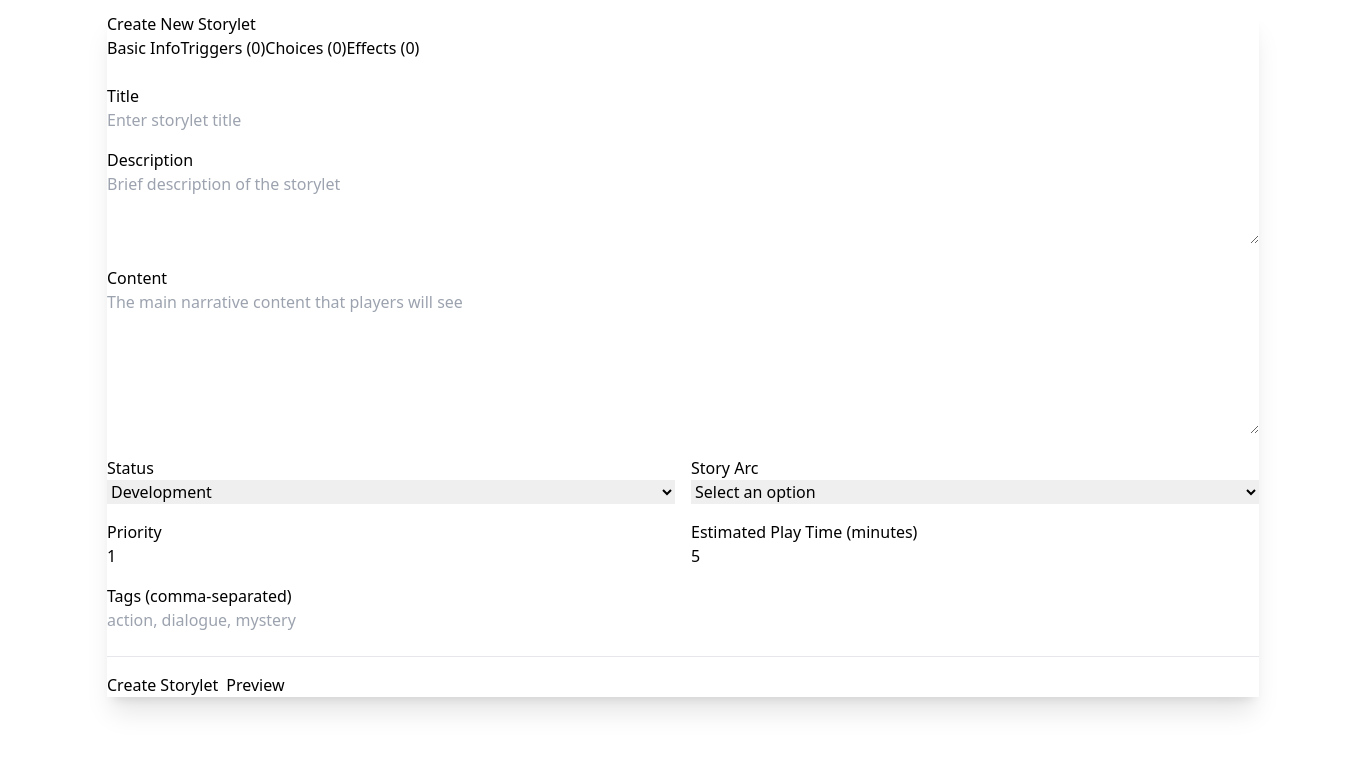
Test: AdvancedStoryletCreator › shows preview modal when preview button is clicked
// Fill some basic data
Type "Preview Test" into the field labelled "Title" at (683, 120), box [107,108,1259,132]
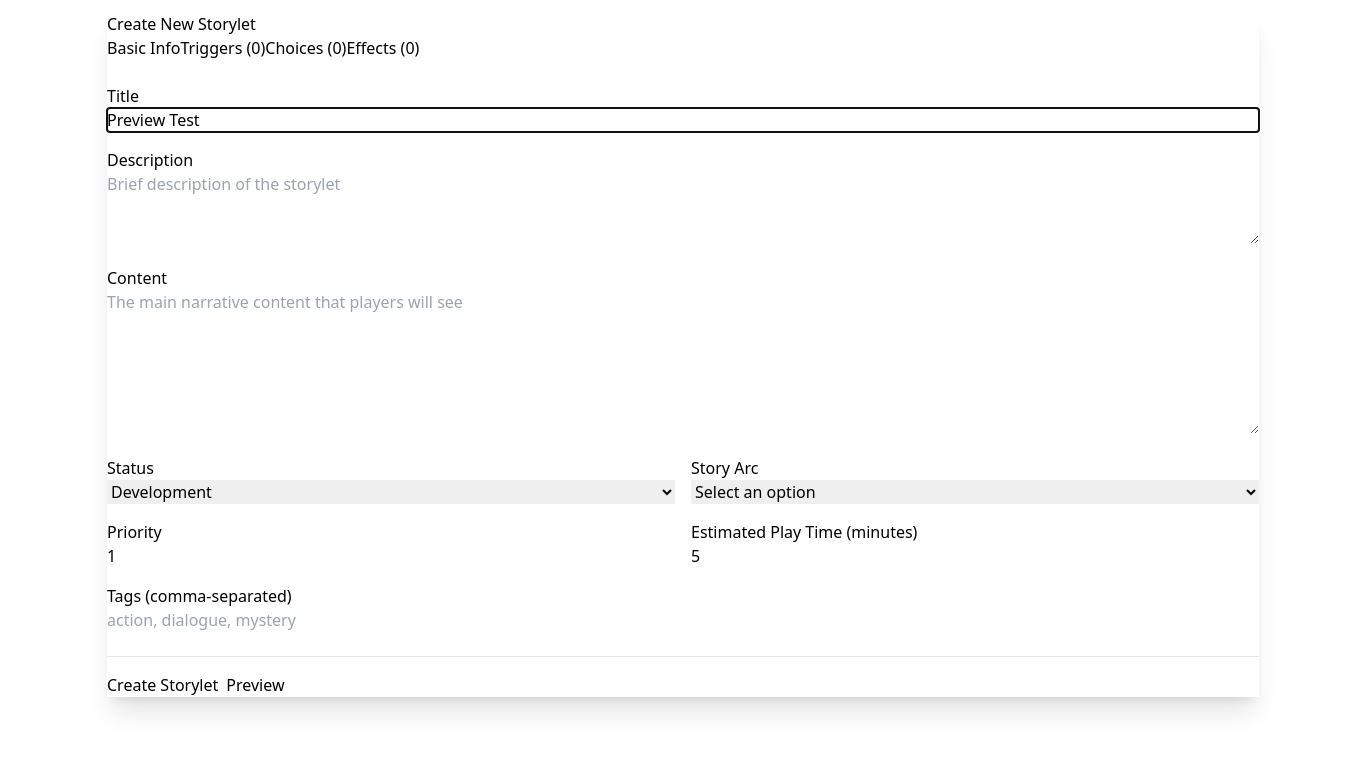
// Click preview
Click the button "Preview" at (255, 685), box [226,673,284,697]
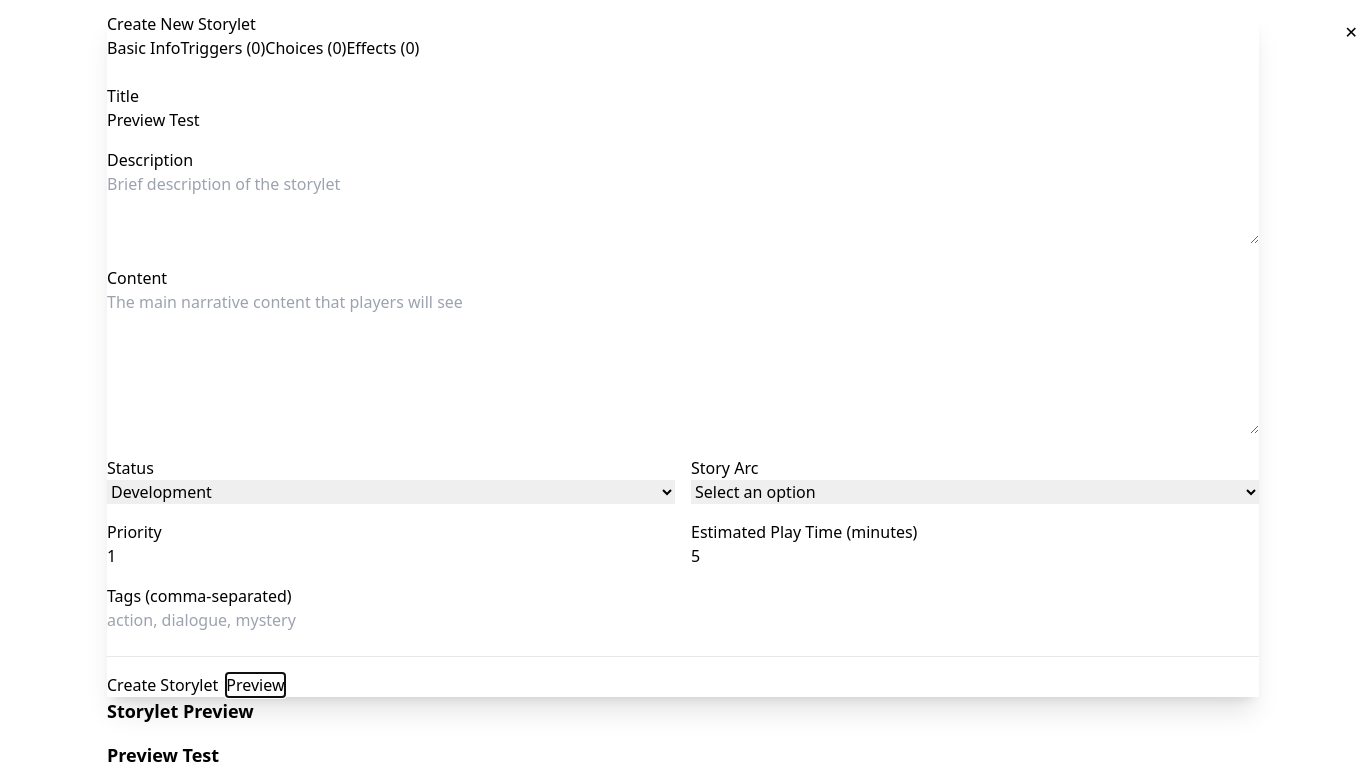
Expected: the heading "Storylet Preview" is shown, [107,699,254,723]
Expected: the heading "Preview Test" is shown, [107,743,219,767]
